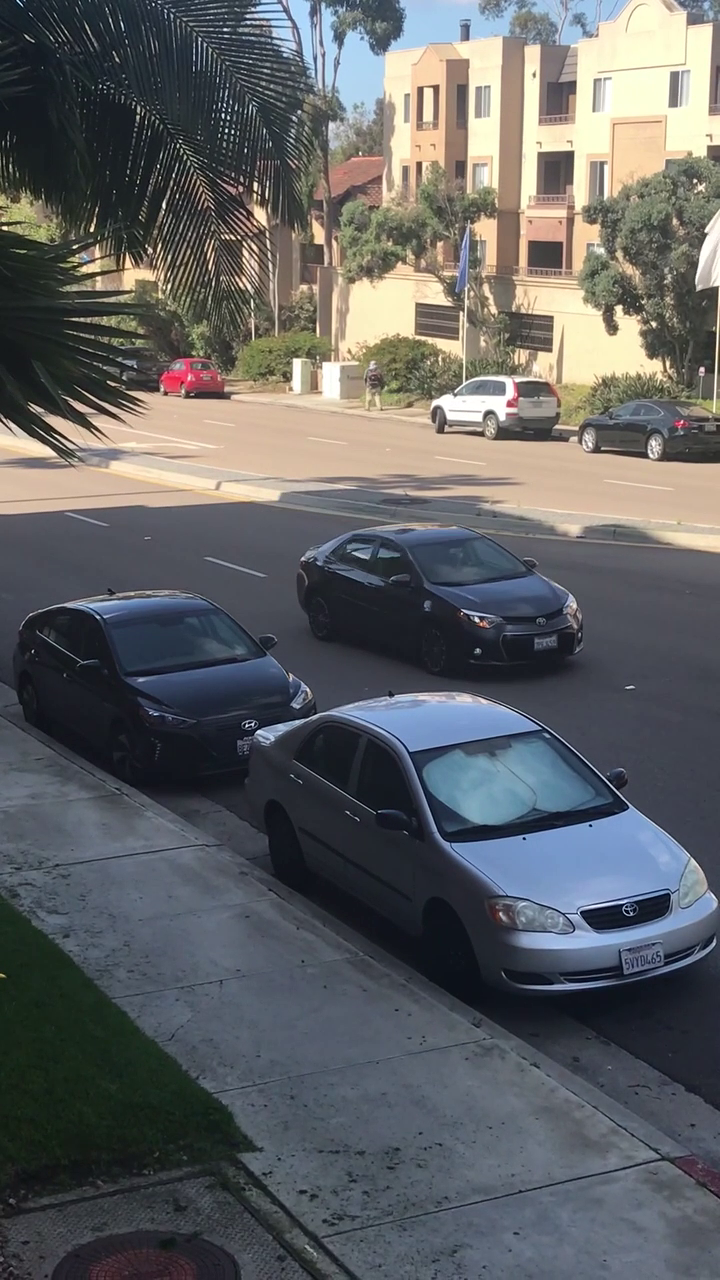car: (238, 692, 693, 1013), (32, 600, 301, 785), (311, 512, 589, 674)
